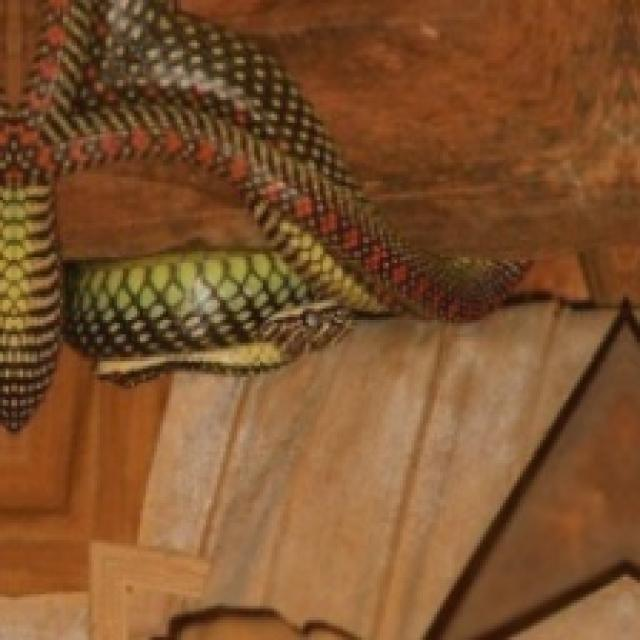paradise tree snake: (0, 0, 517, 426)
